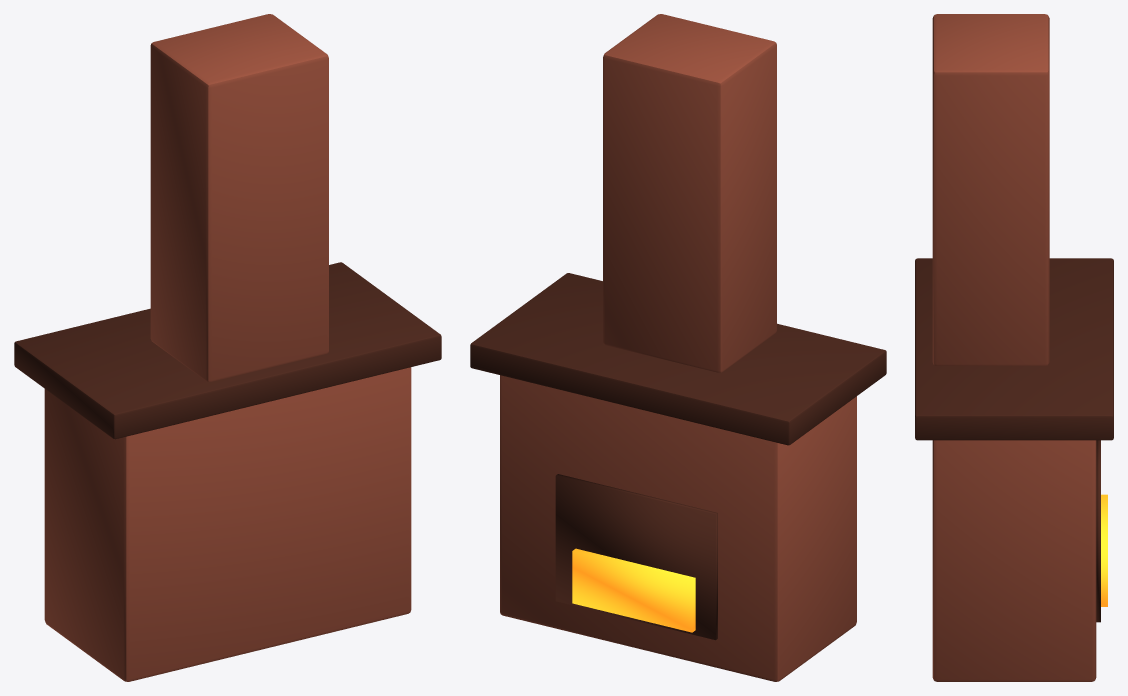
Rendered from fireplace.glb.
The picture shows the model from 3 angles, left to right: view 1: azimuth 30°, elevation 25°; view 2: azimuth 150°, elevation 25°; view 3: azimuth 270°, elevation 25°; orthographic projection. The views are drawn at different scales.
Parts seen in each view (by area): view 1: Fireplace; view 2: Fireplace; view 3: Fireplace.
Part boxes in pixels (x1,y1,x2,y2): Fireplace: (14, 14, 441, 681); Fireplace: (470, 14, 886, 681); Fireplace: (915, 14, 1113, 681).
Size of the model in its own units: 1.6 by 2.7 by 0.85.
